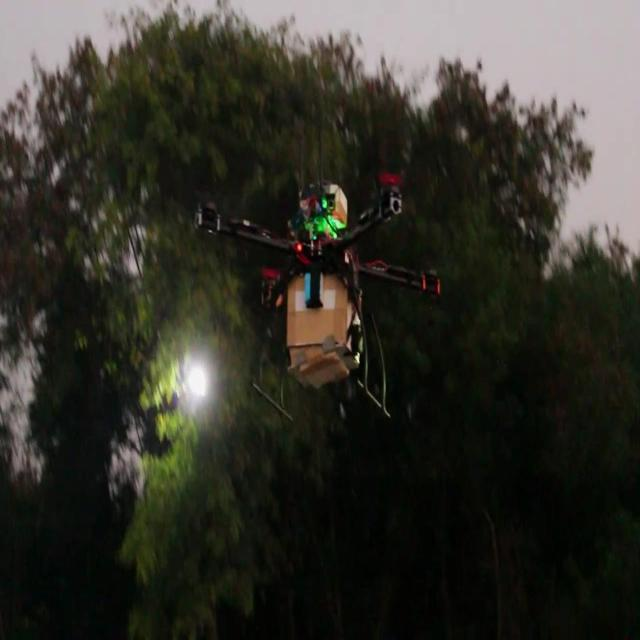drone: (192, 169, 442, 425)
